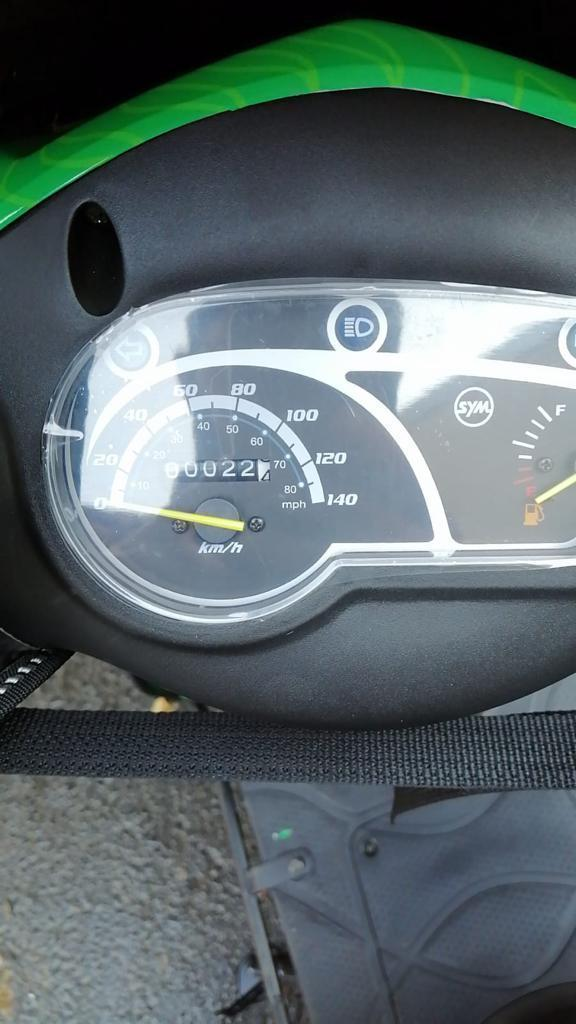0: (163, 461, 179, 480), (182, 459, 197, 479), (201, 459, 216, 478)
2: (238, 459, 256, 478), (221, 458, 235, 478)
4: (259, 468, 271, 483)
7: (273, 458, 279, 469)
odometer: (151, 457, 277, 484)
